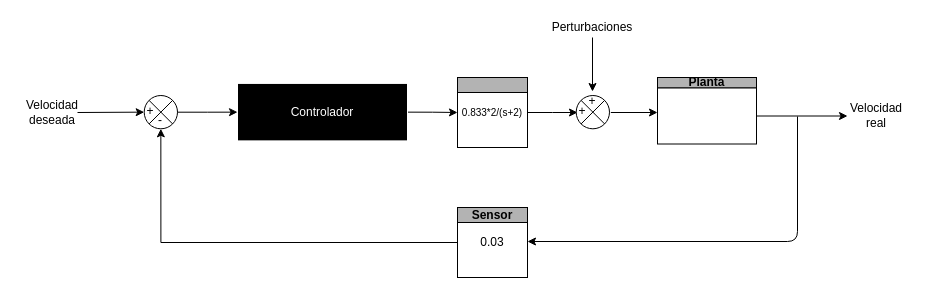
This 928x295 diagram has some shape labels left out. The box of each missing label's shape, as (x1, y1, x2, y2) in pixels:
16/(s+0.4) 2: (656, 87, 756, 144)
Actuador: (456, 76, 528, 92)
